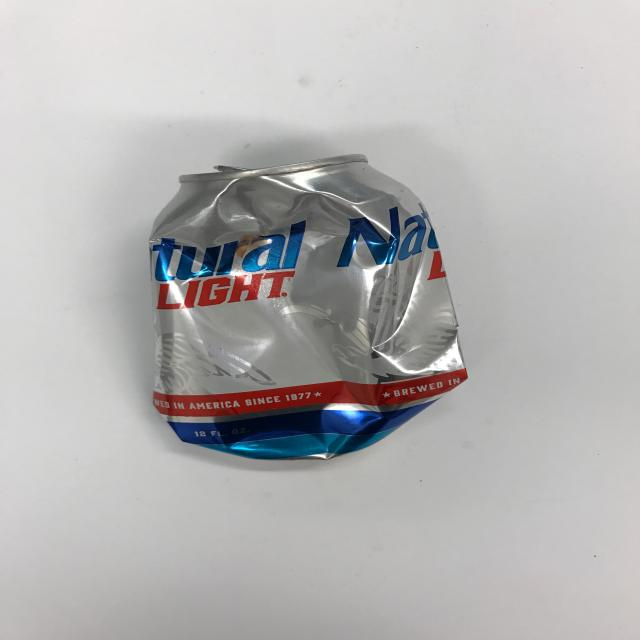Metal: (126, 138, 487, 496)
